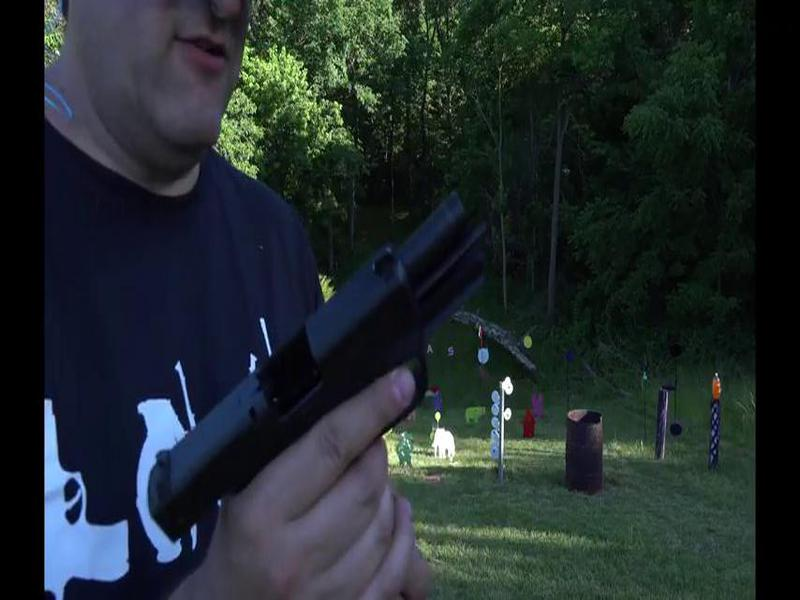Pistola: (135, 181, 494, 565)
